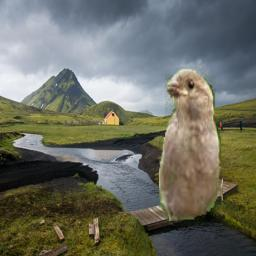Sparrow: (159, 67, 223, 255)
